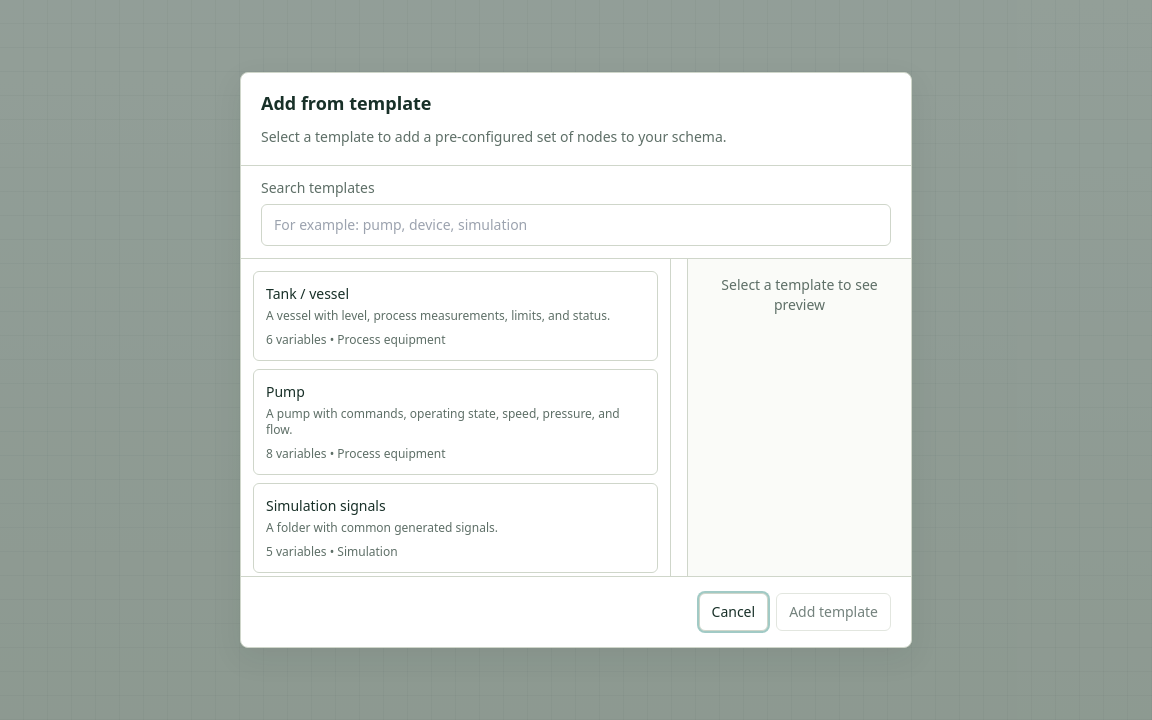
Test case: TemplatePickerModal › allows template selection
This screenshot has width=1152, height=720.
What coordinates should you click on to do the following:
click the button "Pump"
I would click on:
 (456, 422)
Its box is x1=253 y1=369 x2=658 y2=475.
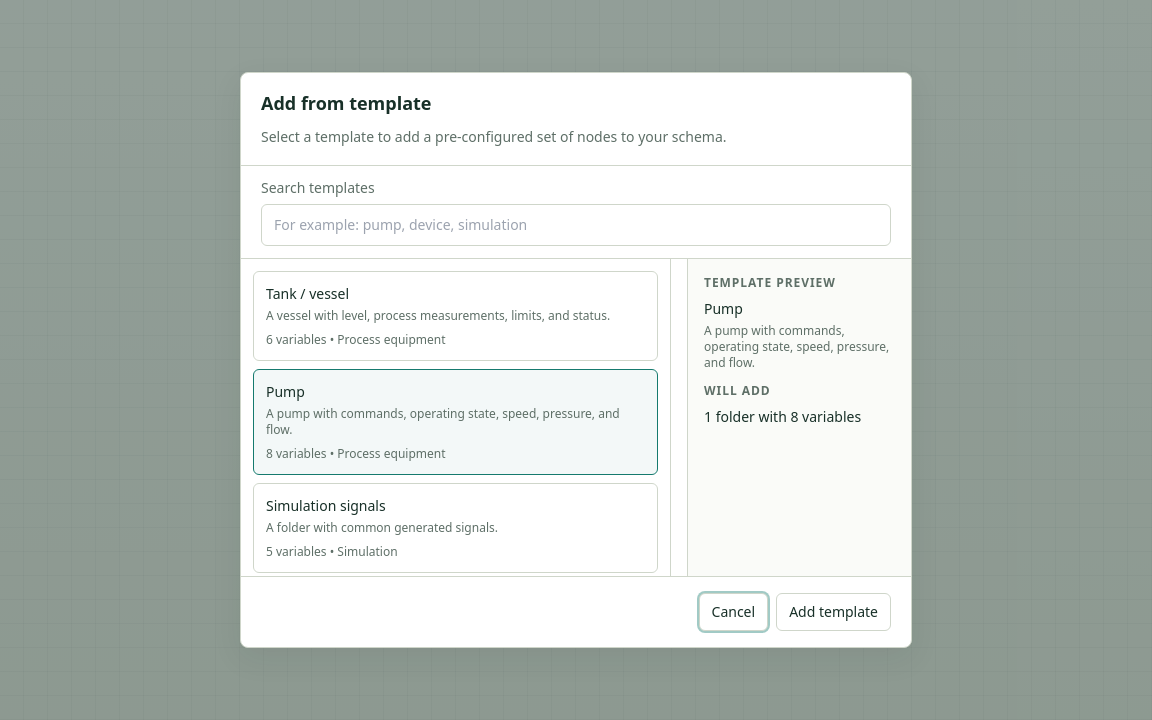
Expected: the text "Template preview" is shown, x1=704 y1=274 x2=836 y2=291
Expected: the text "Will add" is shown, x1=704 y1=382 x2=771 y2=399
Expected: the text "1 folder with 8 variables" is shown, x1=704 y1=407 x2=861 y2=426
